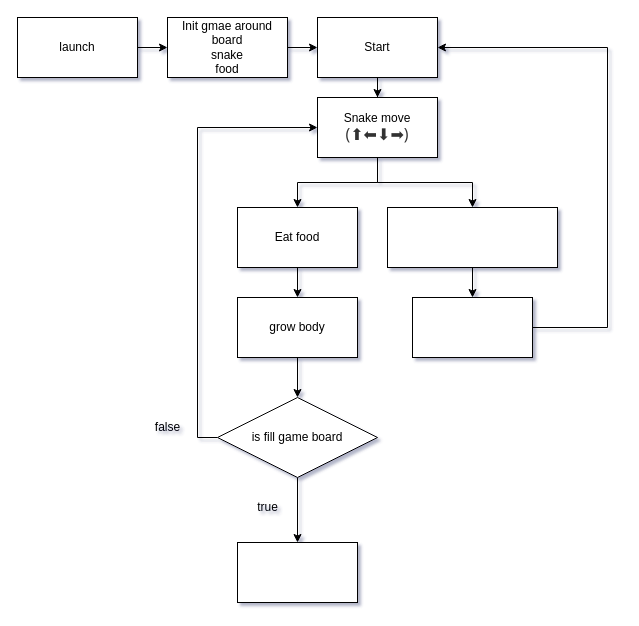
Some shapes in this 639 by 626 pixel diagram are drawn without their labels. Each missing label, with the centre of its shape:
"Gnae over" goes at pixel 472 327.
"Touches wall or itself body" goes at pixel 472 237.
"Win" goes at pixel 297 572.
